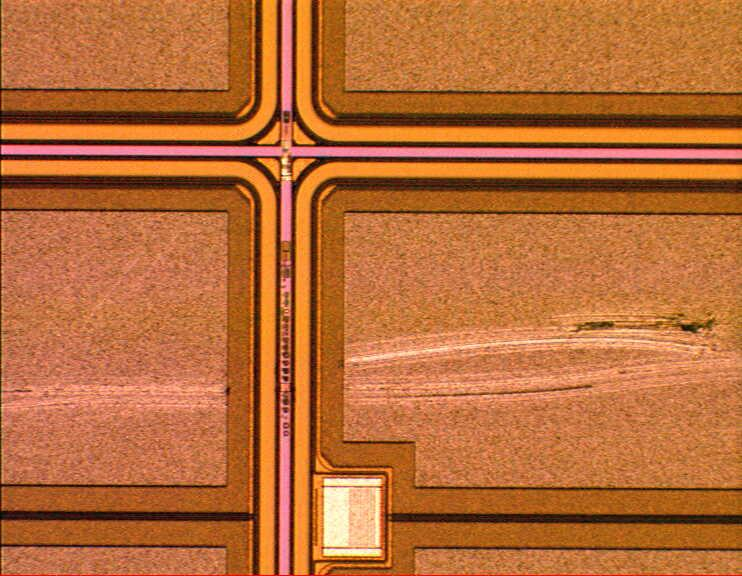SCRATCH: (1, 302, 742, 431)
